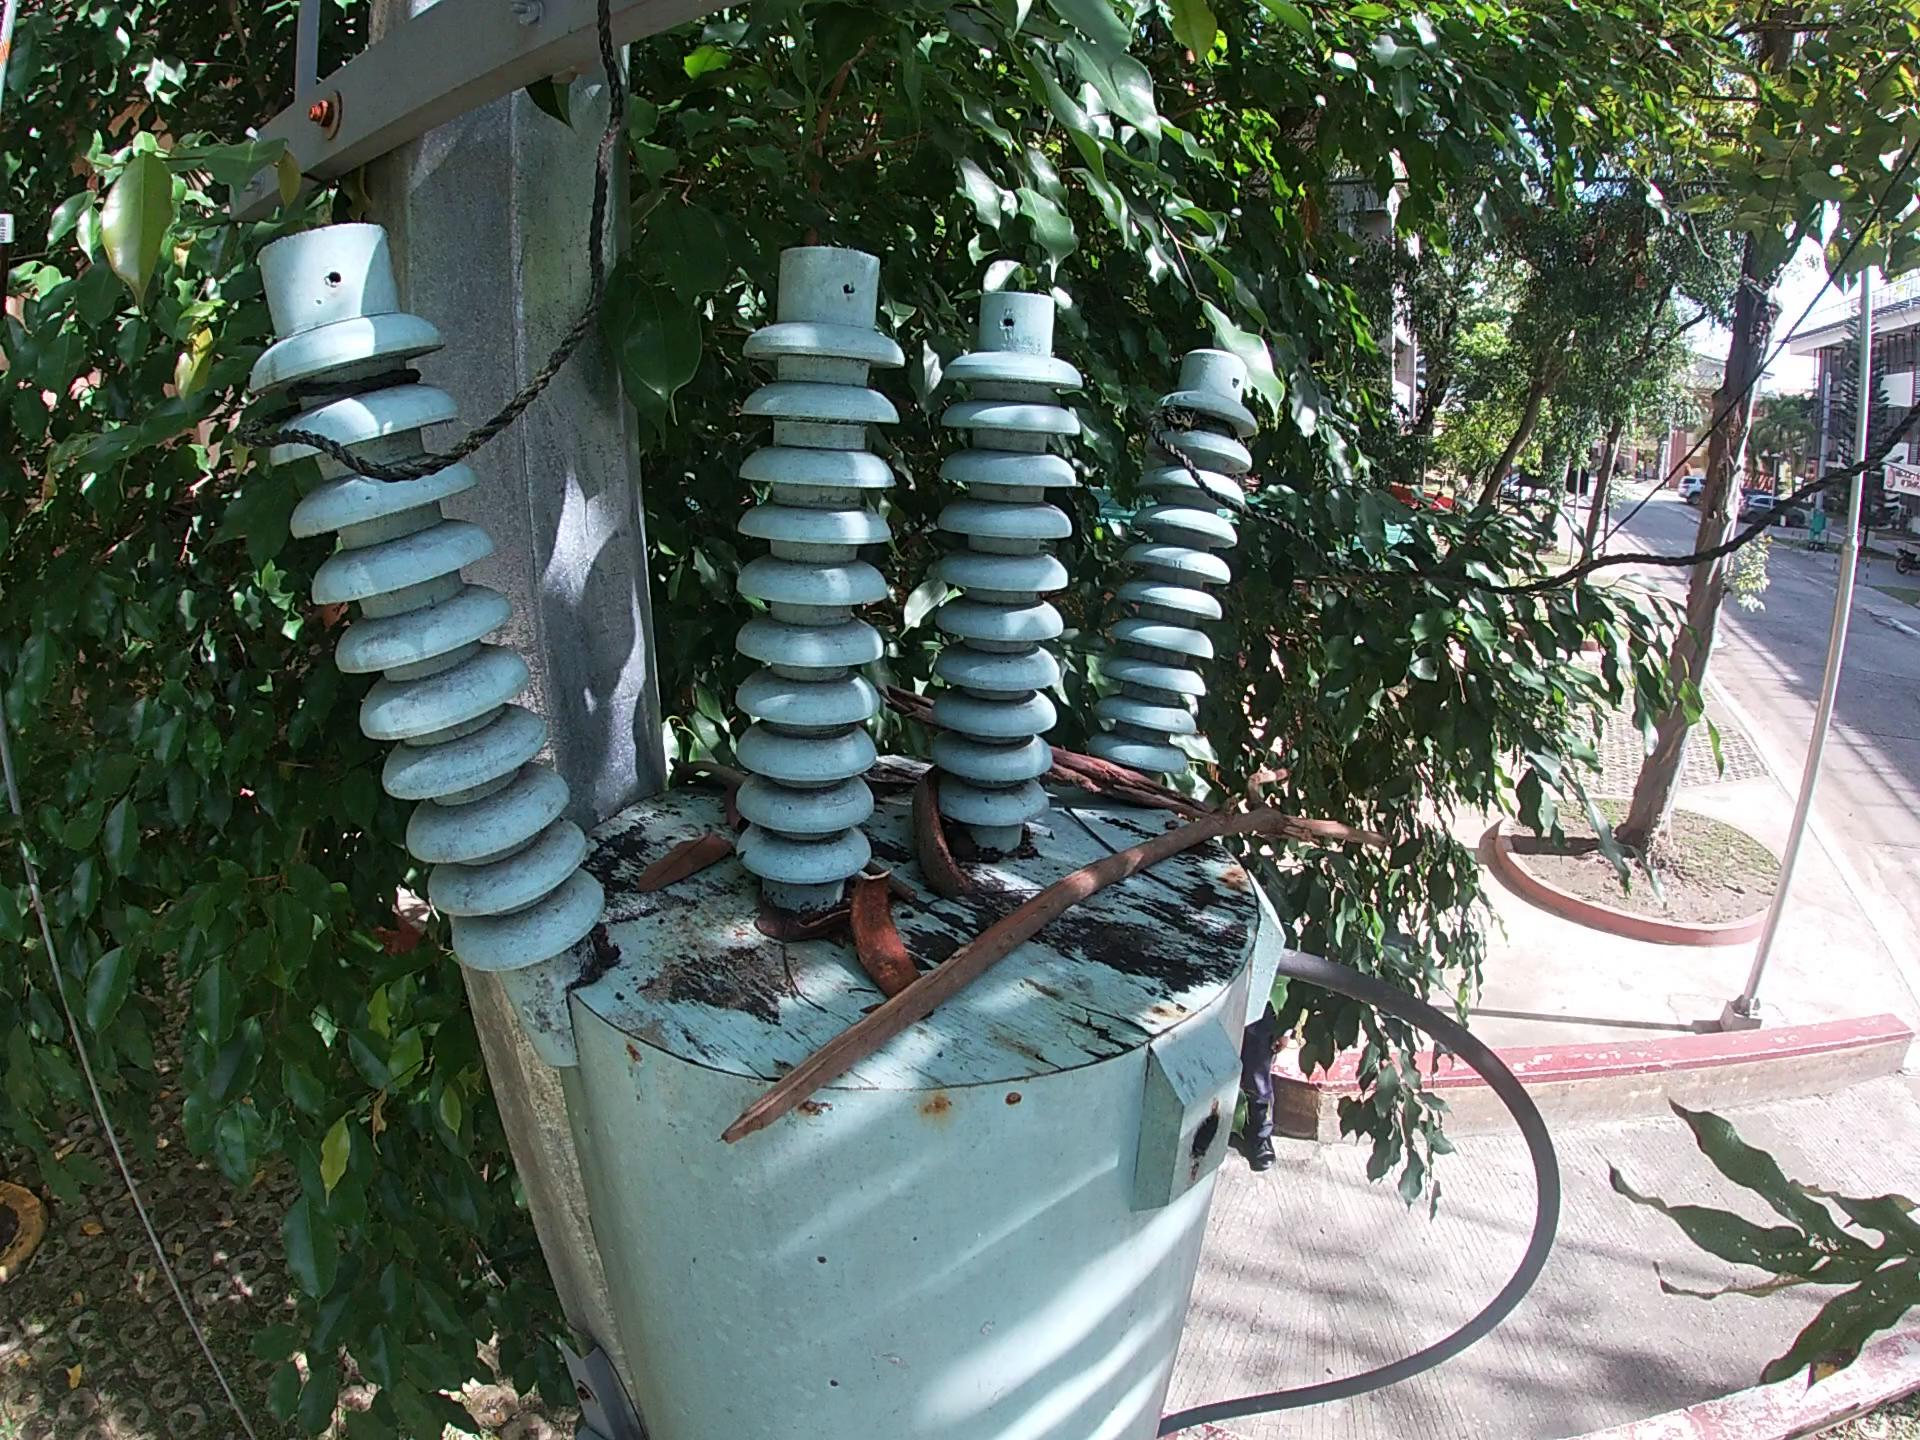leaf: (621, 809, 745, 914)
mahogany fruit: (909, 761, 993, 903), (844, 856, 915, 988)
tree branch: (673, 779, 1451, 1181), (1046, 743, 1219, 815), (1061, 796, 1123, 855), (874, 859, 928, 914), (664, 750, 738, 790), (780, 939, 818, 1013), (874, 675, 937, 718), (751, 915, 844, 942), (1140, 864, 1196, 900)
